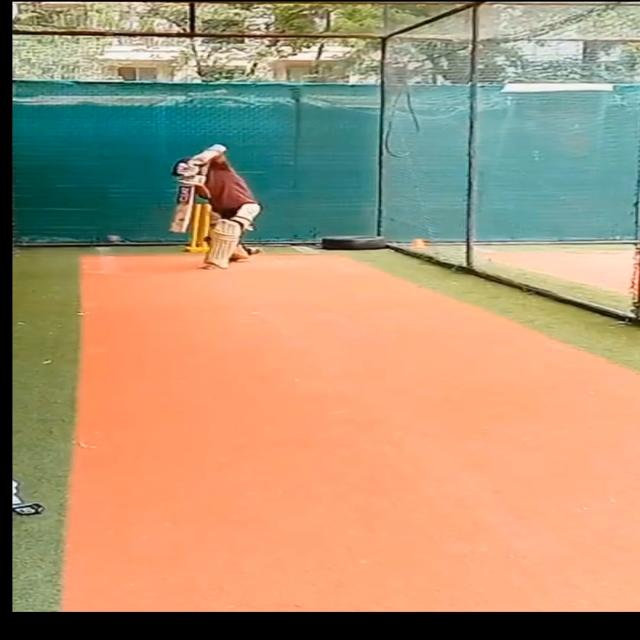ball: (105, 234, 125, 247)
